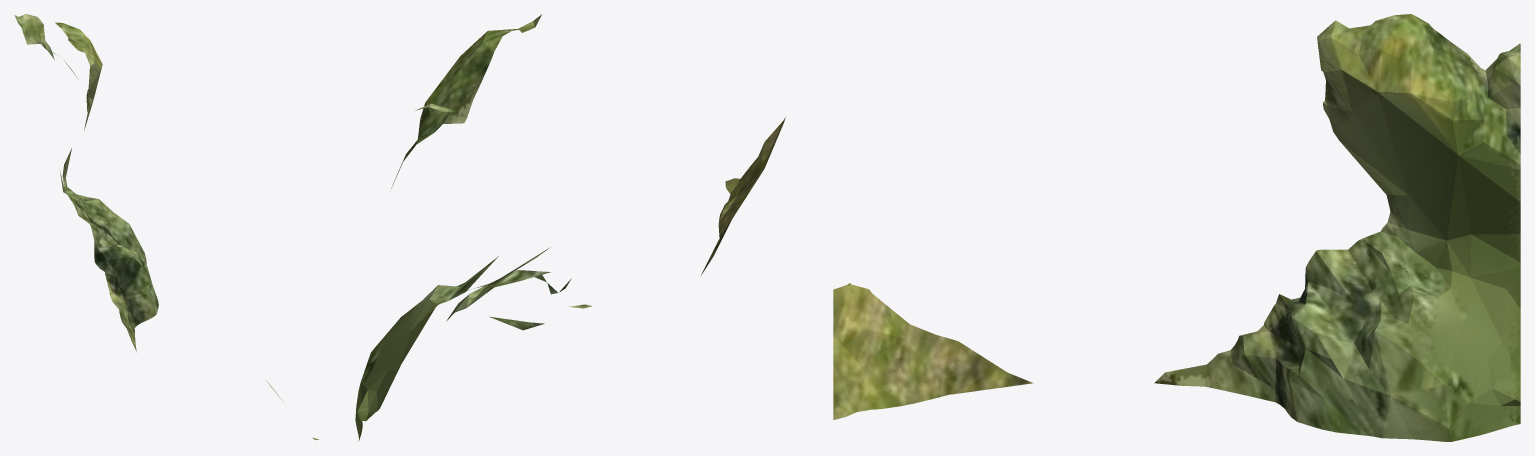
3 views of the same model, side by side, from view 1: azimuth 30°, elevation 25°; view 2: azimuth 150°, elevation 25°; view 3: azimuth 270°, elevation 25° (orthographic). The views are drawn at different scales.
Size of the model in its own units: 1.19 by 3.5 by 5.9.
Materials: 1 (1 with a texture image).
